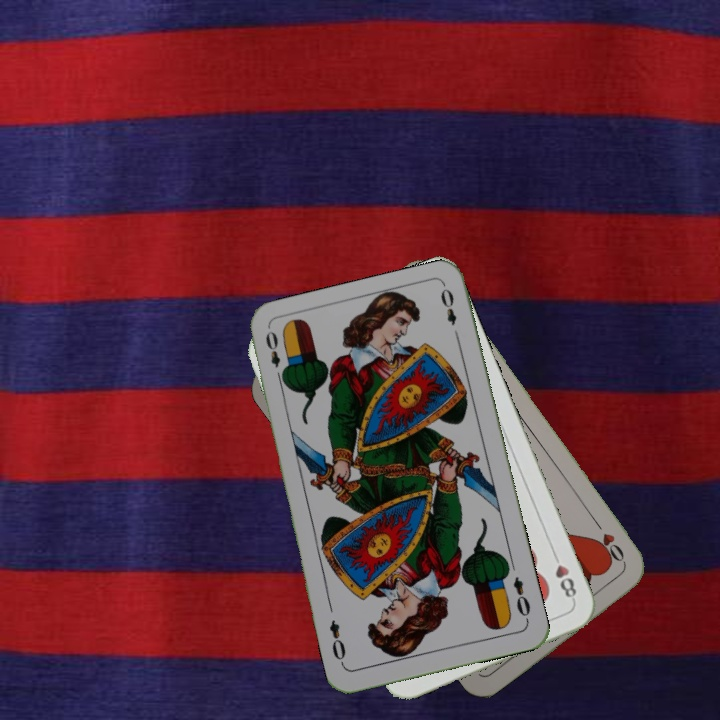EO: (261, 327, 287, 385), (509, 572, 533, 624)
H8: (548, 548, 579, 604)
HO: (589, 515, 629, 568)
